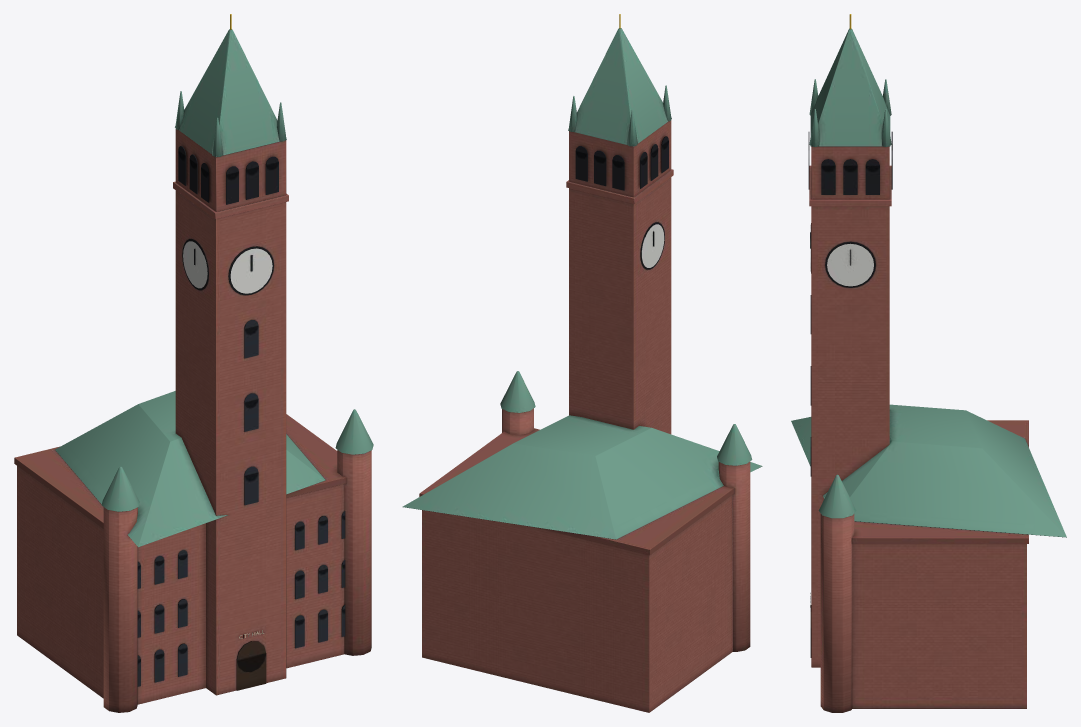
Rendered from city_hall_mpls.glb.
The picture shows the model from 3 angles, left to right: view 1: azimuth 30°, elevation 25°; view 2: azimuth 150°, elevation 25°; view 3: azimuth 270°, elevation 25°; orthographic projection. The views are drawn at different scales.
Visible parts, largest first — view 1: city_hall_mpls; view 2: city_hall_mpls; view 3: city_hall_mpls.
Boxes of the visible parts, box(x1,y1,x2,y2) form: city_hall_mpls: box(14, 14, 373, 712); city_hall_mpls: box(402, 14, 762, 712); city_hall_mpls: box(791, 14, 1066, 712).
Bounding box in the file's own units: 45.5 × 108 × 42.22.
Materials: 1 (1 with a texture image).
